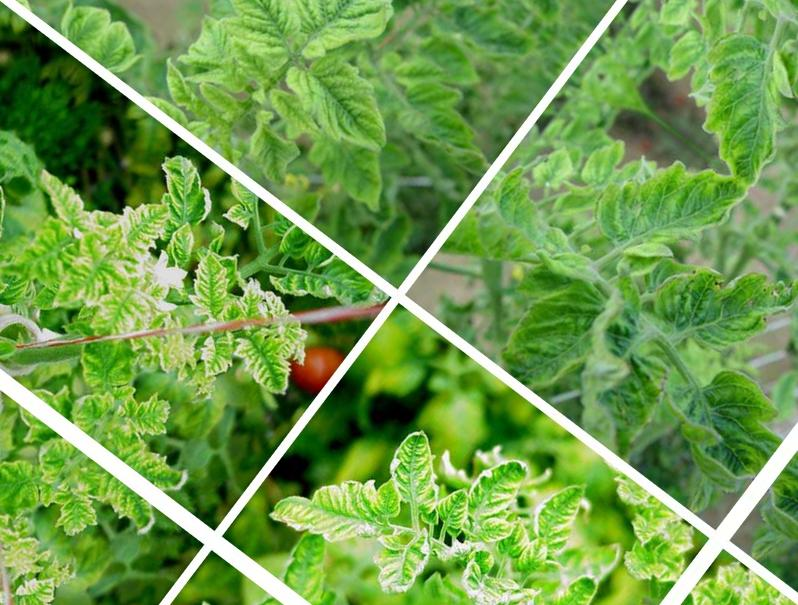Tomato leaf yellow virus: (612, 325, 798, 511), (631, 220, 798, 390), (262, 437, 423, 592), (592, 130, 749, 288), (475, 243, 630, 402), (290, 43, 428, 166), (266, 0, 422, 92), (444, 441, 554, 558), (360, 418, 472, 532), (331, 502, 450, 605), (520, 462, 608, 559), (184, 0, 323, 59), (42, 235, 131, 326), (221, 323, 308, 407), (73, 324, 153, 405), (172, 247, 247, 322), (0, 174, 45, 297), (104, 187, 175, 261), (116, 379, 186, 451), (424, 480, 489, 544), (155, 215, 211, 276), (537, 560, 609, 605), (508, 527, 562, 584)
